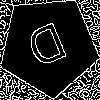D: (24, 21, 73, 77)
